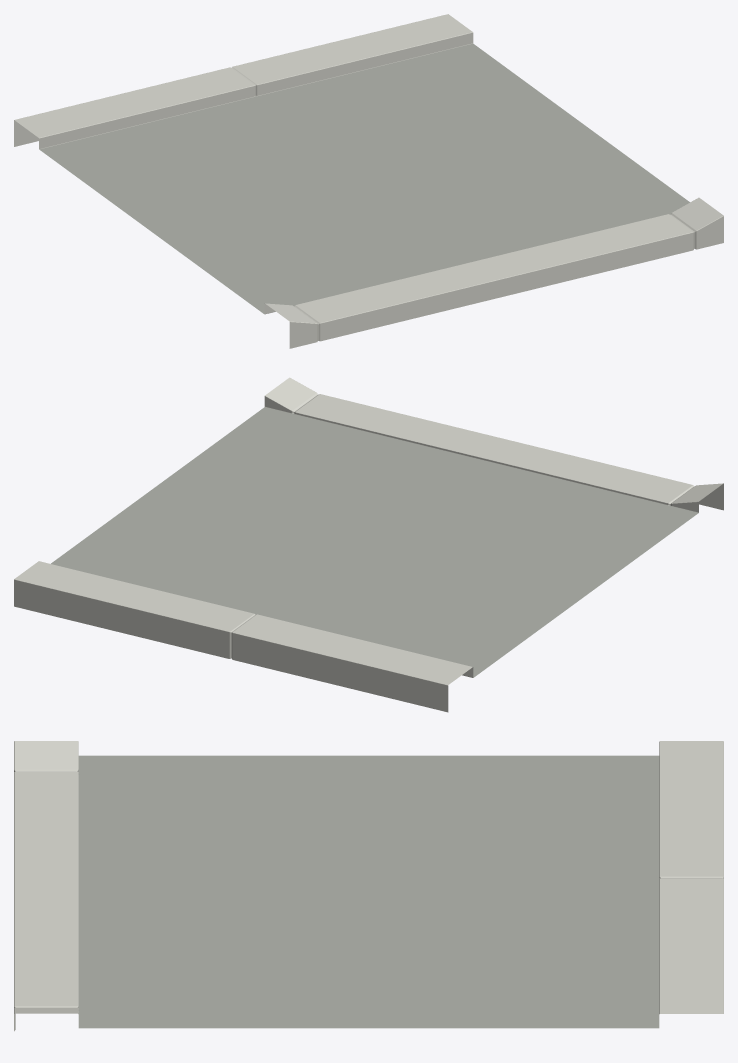
The model's file is StraightSmashedSidewalk.fbx.
3 renders of one model, top to bottom at view 1: azimuth 30°, elevation 25°; view 2: azimuth 150°, elevation 25°; view 3: azimuth 270°, elevation 25°, orthographic. The views are drawn at different scales.
Visible parts, largest first — view 1: StraightSmashed; view 2: StraightSmashed; view 3: StraightSmashed.
Part boxes in pixels (bbox=[...]): StraightSmashed: bbox=[14, 14, 723, 348]; StraightSmashed: bbox=[14, 377, 723, 712]; StraightSmashed: bbox=[14, 741, 723, 1031].
Size of the model in its own units: 200 by 12.04 by 220.
